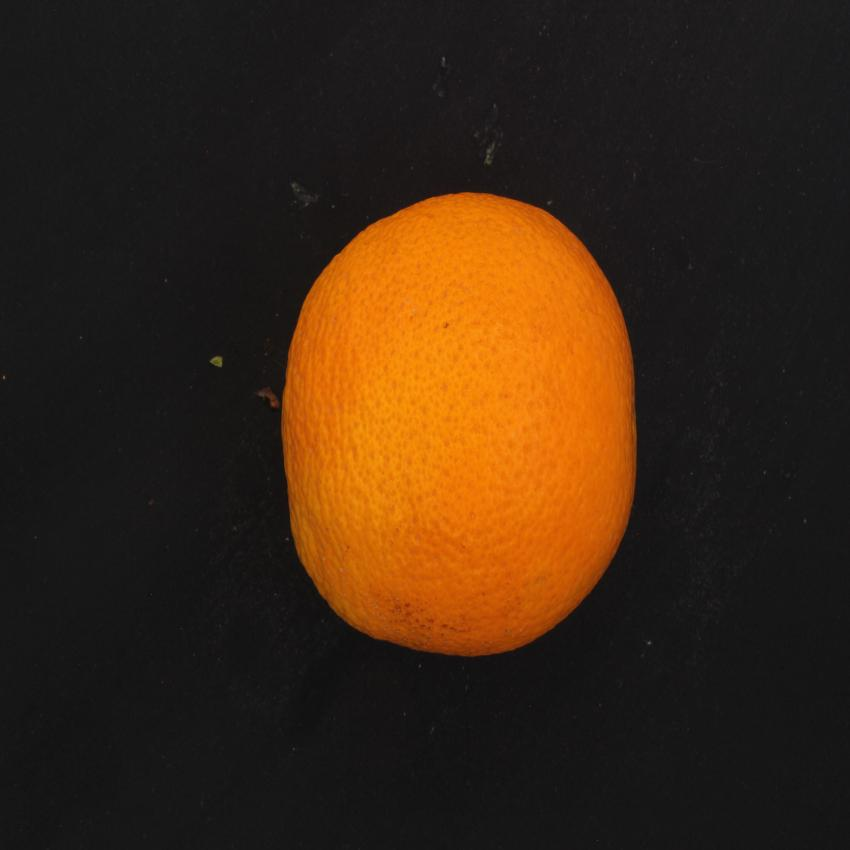Buen estado: (271, 177, 646, 672)
